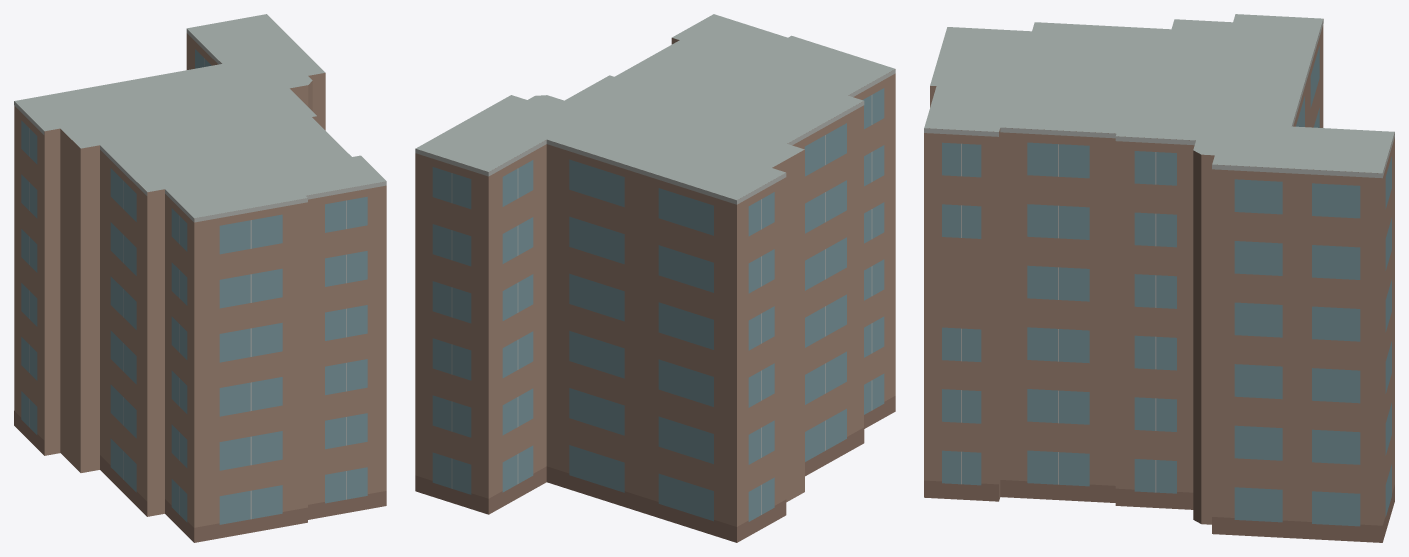
The model's file is survey-upis-32670324.glb.
3 views of the same model, side by side, from view 1: azimuth 30°, elevation 25°; view 2: azimuth 150°, elevation 25°; view 3: azimuth 270°, elevation 25° (orthographic). The views are drawn at different scales.
Visible parts, largest first — view 1: survey-upis-32670324.tmp; view 2: survey-upis-32670324.tmp; view 3: survey-upis-32670324.tmp.
Part boxes in pixels (<box>): survey-upis-32670324.tmp: <box>14,14,386,542</box>; survey-upis-32670324.tmp: <box>415,14,895,542</box>; survey-upis-32670324.tmp: <box>924,14,1394,542</box>.
Size of the model in its own units: 17.21 by 18.6 by 21.48.
